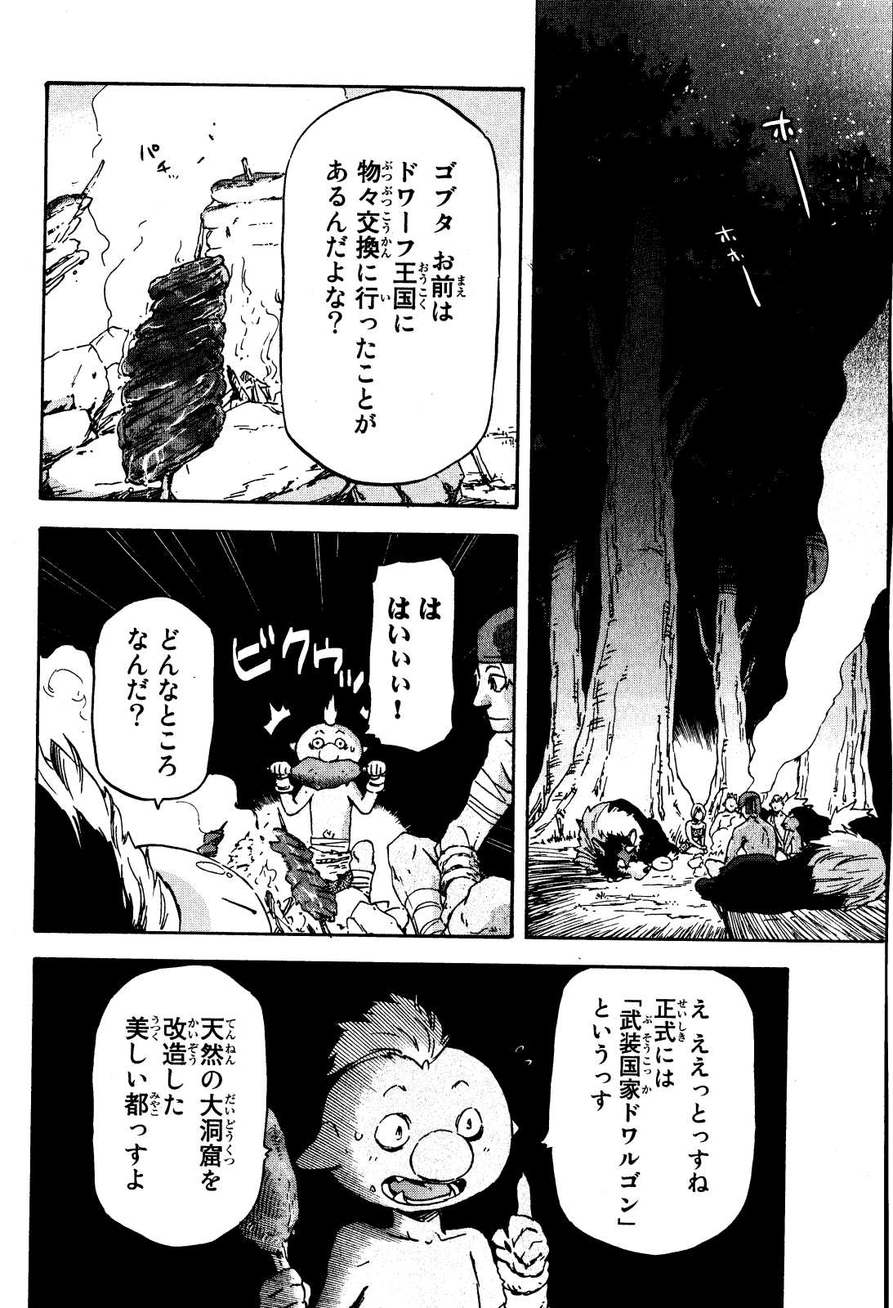bubbles: (275, 78, 500, 490), (543, 966, 767, 1265), (83, 960, 298, 1252), (90, 588, 220, 814), (359, 550, 469, 764)
